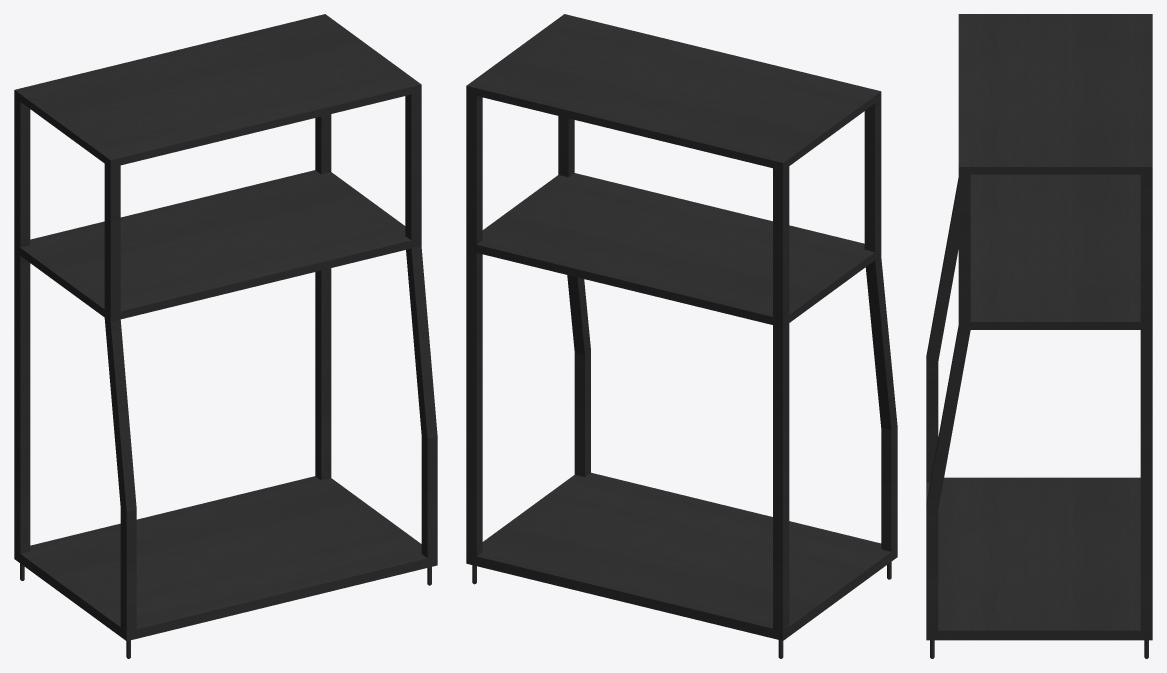
File: TVStand.fbx
3 views of the same model, side by side, from view 1: azimuth 30°, elevation 25°; view 2: azimuth 150°, elevation 25°; view 3: azimuth 270°, elevation 25° (orthographic).
Parts seen in each view (by area): view 1: Cube; view 2: Cube; view 3: Cube.
Boxes of the visible parts, x1,y1,x2,y2 form: Cube: (14,14,437,658); Cube: (466,14,897,658); Cube: (926,14,1152,658).
Size of the model in its own units: 400 by 602 by 250.
